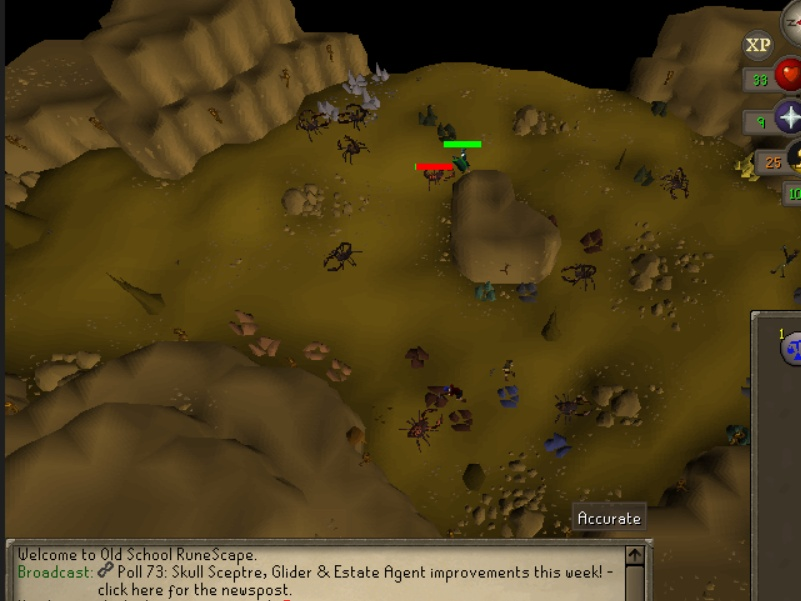adamant: (472, 276, 502, 304), (726, 418, 756, 446)
coal: (414, 102, 440, 129), (435, 119, 461, 146), (649, 94, 675, 121), (632, 162, 658, 189)
copper: (300, 337, 334, 364), (324, 358, 358, 385), (246, 333, 280, 360), (226, 308, 260, 335)
gold: (732, 151, 760, 185)
iron: (403, 341, 432, 374), (448, 404, 477, 437), (580, 223, 609, 256), (421, 380, 454, 409)
mithril: (496, 382, 524, 410), (545, 431, 573, 459)
tin: (340, 66, 368, 96), (359, 90, 387, 116), (315, 96, 343, 122), (371, 63, 390, 86)
